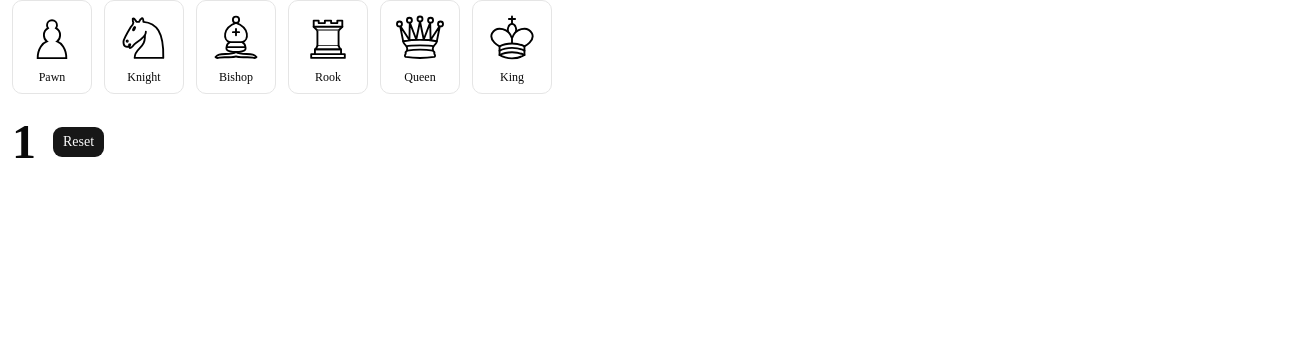
Test case: <PieceValuesTraining /> › congratulates the user when the picked pieces sum to the target
The image size is (1292, 345).
Note: Target is 1, Pawn is 1 → adding a single Pawn is correct.
Click the picture with alt text "Pawn" at (52, 37), box [24,9,80,65]
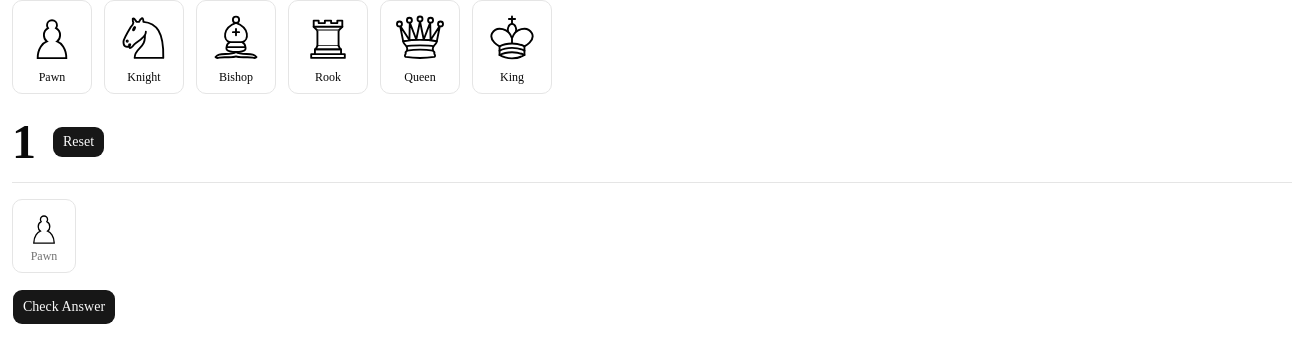
Click the button "Check Answer" at (64, 307), box [12,289,116,325]
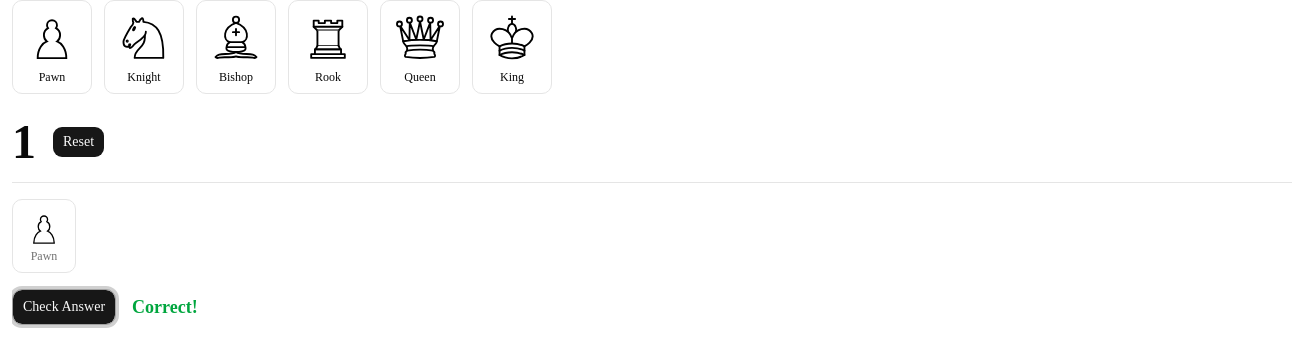
Expected: the text "Correct!" is shown, [132,293,198,321]
